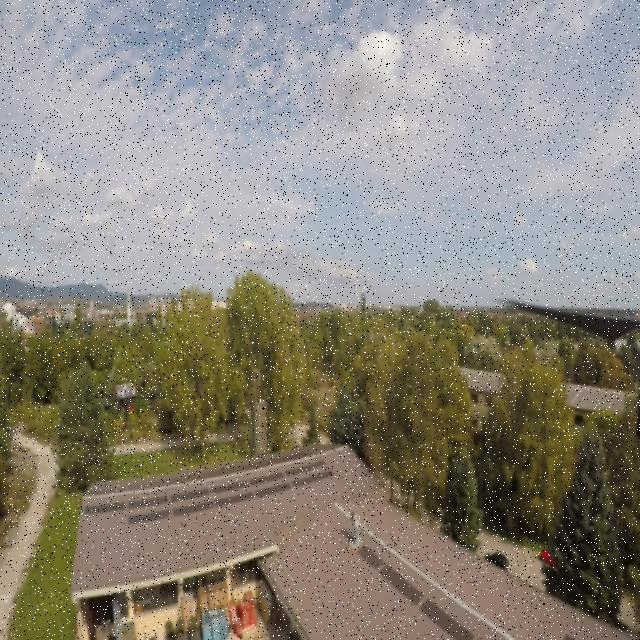UAV: (94, 374, 158, 446)
